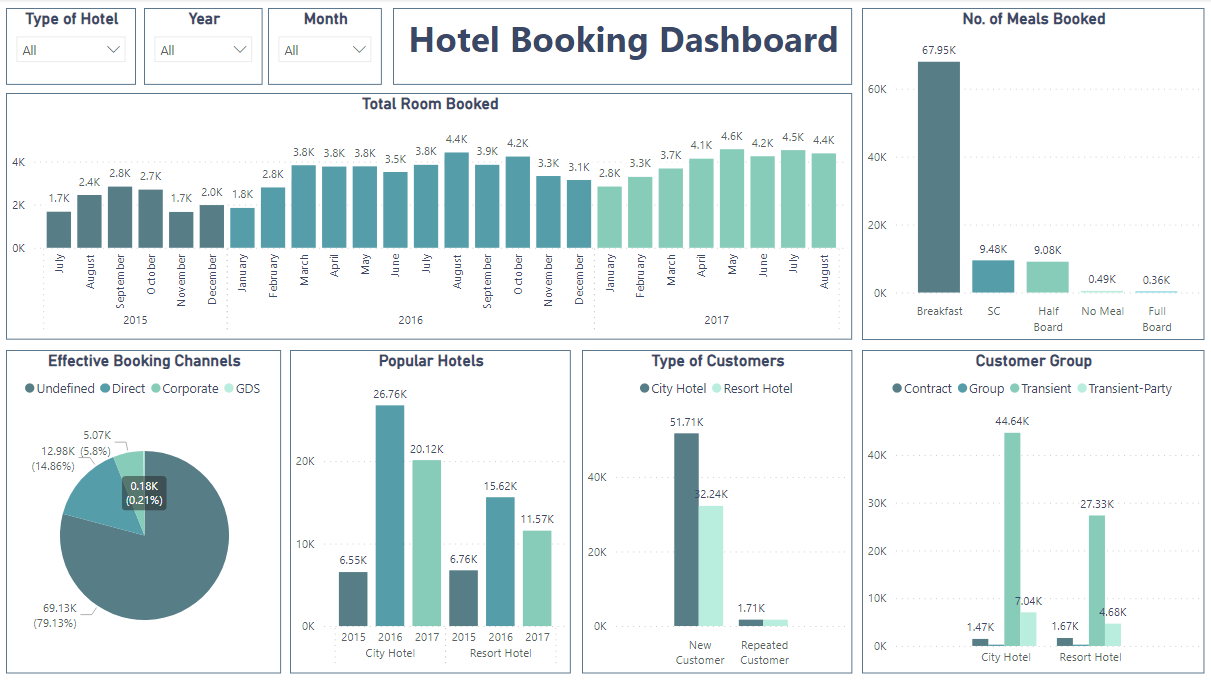

The page's visual inventory and layout, read from the dashboard file:
{"tool":"powerbi","page":{"name":"Page 1","canvas":[1280,720],"ordinal":0},"visuals":[{"type":"slicer","title":"Year","fields":{"Values":["result.arrival_date.Variation.Date Hierarchy.Year"]},"box":[154,9.8,124.7,80.7],"z":0},{"type":"slicer","title":"Month","fields":{"Values":["result.arrival_date.Variation.Date Hierarchy.Month"]},"box":[284.9,9.8,119.8,80.7],"z":1000},{"type":"slicer","title":"Type of Hotel","fields":{"Values":["result.hotel"]},"box":[8.6,9.8,136.9,80.7],"z":2000},{"type":"lineClusteredColumnComboChart","title":"Total Room Booked","fields":{"Category":["result.arrival_date.Variation.Date Hierarchy.Year","result.arrival_date.Variation.Date Hierarchy.Month"],"Y":["CountNonNull(result.assigned_room_type)"]},"box":[8.6,99,892.5,260.4],"z":3000},{"type":"textbox","box":[416.9,9.8,484.1,80.7],"z":4000},{"type":"pieChart","title":"Effective Booking Channels","fields":{"Category":["result.distribution_channel"],"Series":["result.distribution_channel"],"Y":["CountNonNull(result.distribution_channel)"]},"box":[8.6,370.4,289.7,341.1],"z":5000},{"type":"clusteredColumnChart","title":"No. of Meals Booked","fields":{"Category":["result.meal"],"Y":["CountNonNull(result.reserved_room_type)"]},"box":[910.8,9.8,360.6,349.6],"z":6000},{"type":"clusteredColumnChart","title":"Popular Hotels","fields":{"Category":["result.hotel","result.arrival_date.Variation.Date Hierarchy.Year"],"Y":["CountNonNull(result.arrival_date)"]},"box":[308.1,370.4,295.9,341.1],"z":7000},{"type":"clusteredColumnChart","title":"Customer Group","fields":{"Category":["result.hotel"],"Series":["result.customer_type"],"Y":["CountNonNull(result.customer_type)"]},"box":[910.8,370.4,360.6,341.1],"z":8000},{"type":"clusteredColumnChart","title":"Type of Customers","fields":{"Category":["result.is_repeated_guest"],"Series":["result.hotel"],"Y":["CountNonNull(result.is_repeated_guest)"]},"box":[616.2,370.4,284.9,341.1],"z":9000}]}

Visuals, with their boxes in screenshot pixels (x1, y1, x2, y2), scaled from the page's 1280x720 canvas onto the 1211x680 screenshot:
"Year" slicer: bbox=[146, 9, 264, 85]
"Month" slicer: bbox=[270, 9, 383, 85]
"Type of Hotel" slicer: bbox=[8, 9, 138, 85]
"Total Room Booked" lineClusteredColumnComboChart: bbox=[8, 94, 853, 339]
textbox: bbox=[394, 9, 852, 85]
"Effective Booking Channels" pieChart: bbox=[8, 350, 282, 672]
"No. of Meals Booked" clusteredColumnChart: bbox=[862, 9, 1203, 339]
"Popular Hotels" clusteredColumnChart: bbox=[291, 350, 571, 672]
"Customer Group" clusteredColumnChart: bbox=[862, 350, 1203, 672]
"Type of Customers" clusteredColumnChart: bbox=[583, 350, 853, 672]
